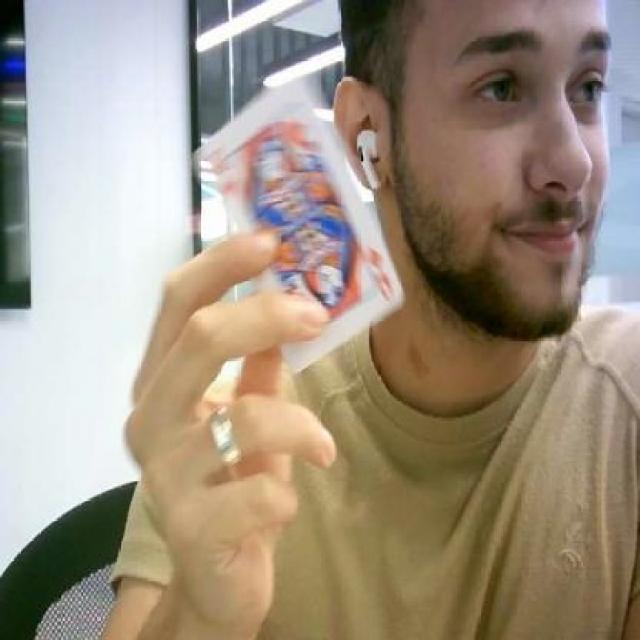QD: (369, 245, 393, 304)
